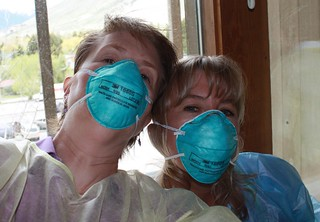n95: (170, 105, 241, 186), (80, 57, 152, 130)
